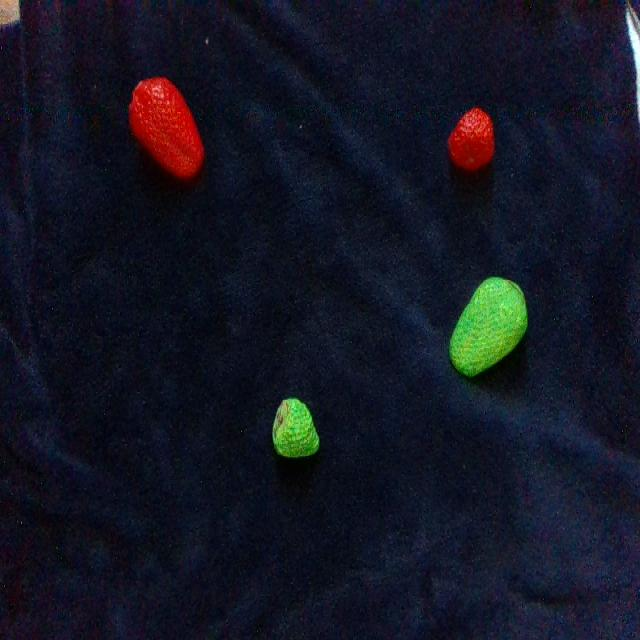chica_roja: (449, 108, 494, 171)
grande_roja: (129, 77, 203, 179)
verde: (450, 279, 527, 376), (272, 400, 318, 457)
